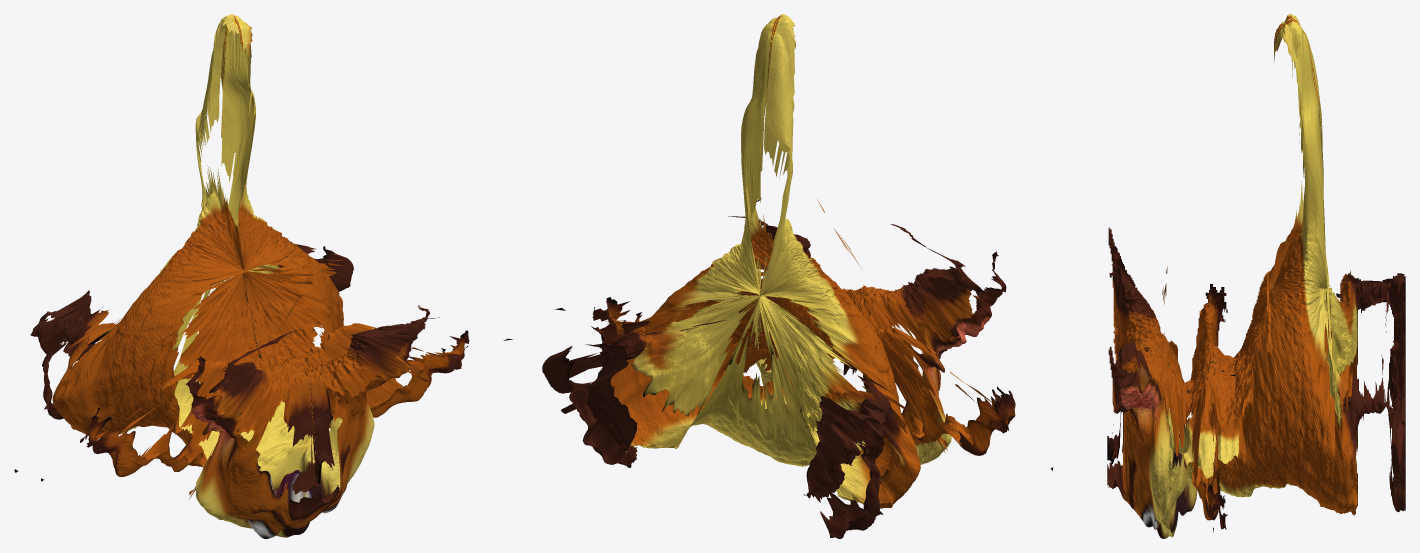
The picture shows the model from 3 angles, left to right: view 1: azimuth 30°, elevation 25°; view 2: azimuth 150°, elevation 25°; view 3: azimuth 270°, elevation 25°; orthographic projection. The views are drawn at different scales.
Parts seen in each view (by area): view 1: geometry_0; view 2: geometry_0; view 3: geometry_0.
Boxes of the visible parts, bbox=[...] form: geometry_0: bbox=[14, 14, 512, 538]; geometry_0: bbox=[542, 14, 1052, 538]; geometry_0: bbox=[1107, 14, 1405, 538].
Size of the model in its own units: 1.75 by 1.63 by 0.8454.
1 material, 1 textured.
